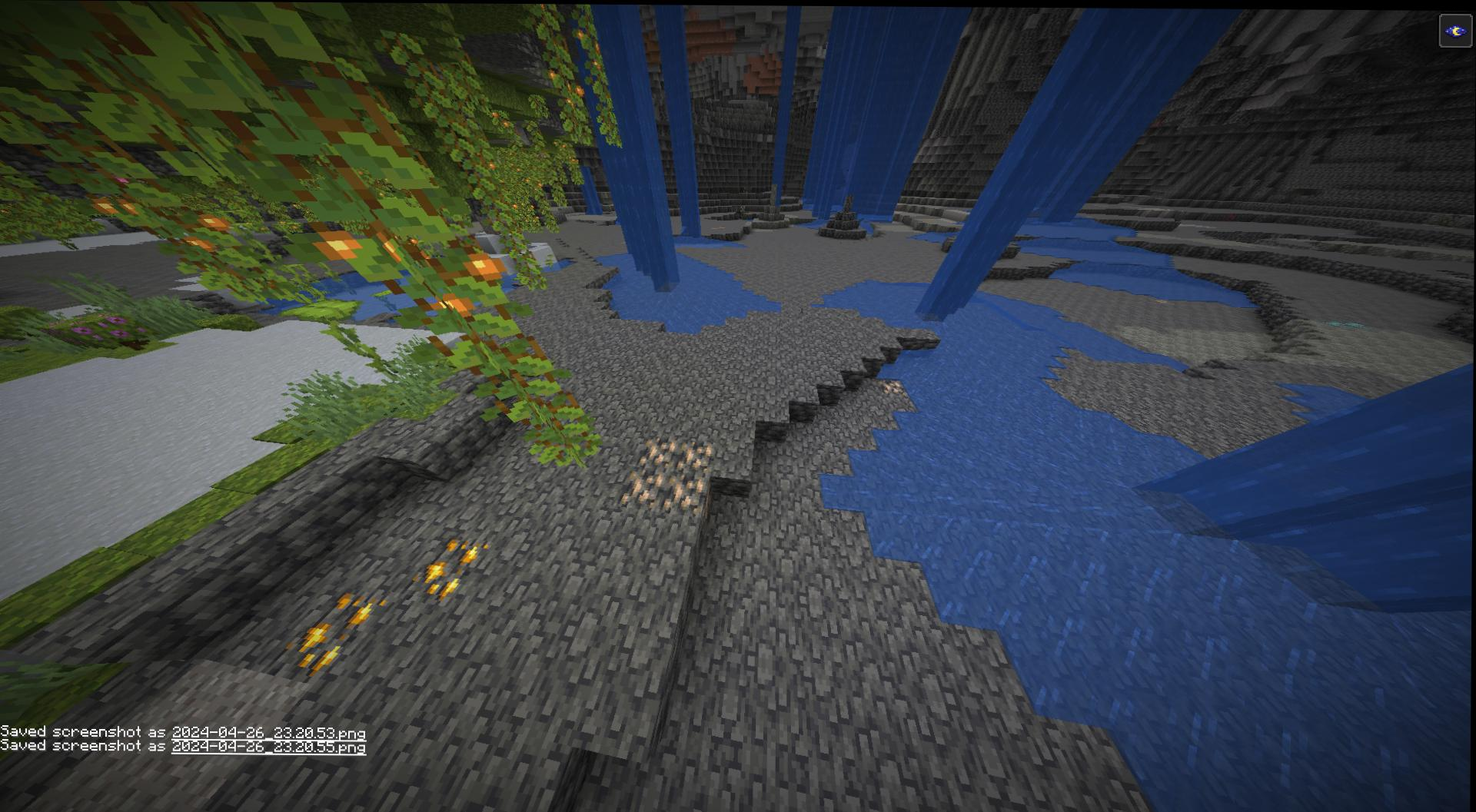gold ore: (290, 592, 378, 666), (417, 536, 482, 598)
iron ore: (627, 469, 668, 508), (672, 474, 707, 512), (679, 440, 716, 473), (642, 435, 676, 466), (883, 379, 903, 395)
